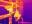Hotspot: (1, 0, 21, 19)
